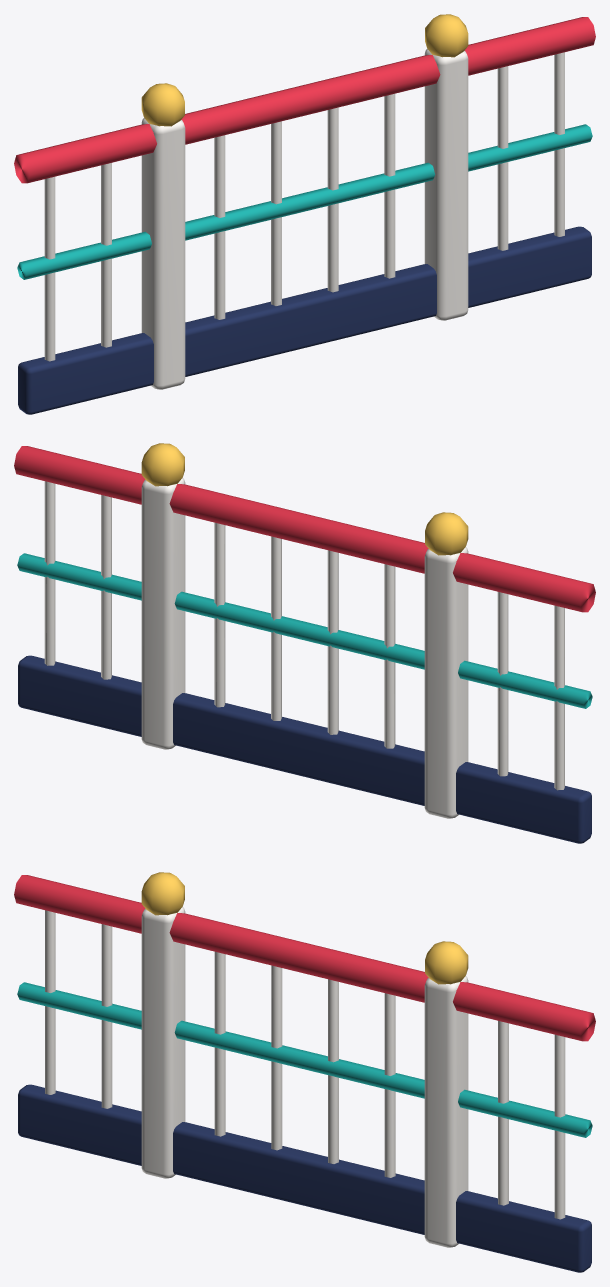
The model's file is sky_rail.glb.
3 renders of one model, top to bottom at view 1: azimuth 30°, elevation 25°; view 2: azimuth 150°, elevation 25°; view 3: azimuth 330°, elevation 25°, orthographic.
Visible parts, largest first — view 1: Rail; view 2: Rail; view 3: Rail.
Part boxes in pixels (x1=…): Rail: x1=14, y1=14, x2=595, y2=414; Rail: x1=14, y1=443, x2=595, y2=843; Rail: x1=14, y1=872, x2=595, y2=1272.
Size of the model in its own units: 2.5 by 1.26 by 0.1712.
